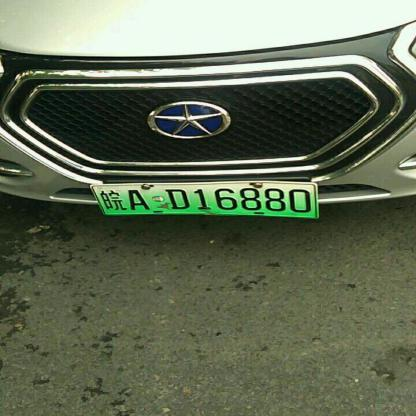lp: (91, 183, 317, 217)
